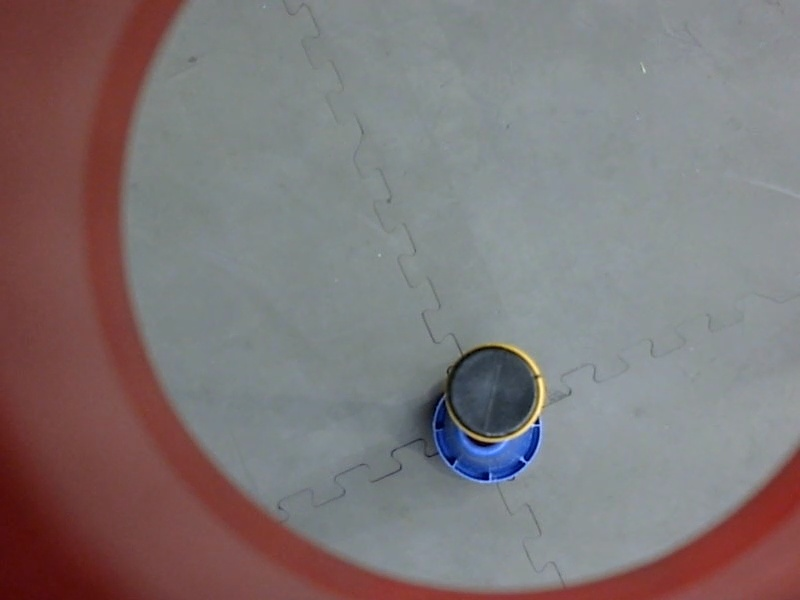tip: (441, 339, 550, 444)
